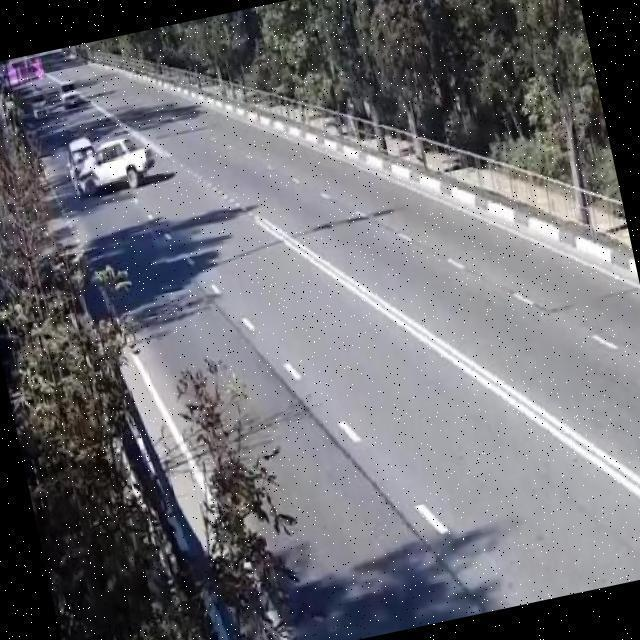accident: (58, 120, 162, 209)
